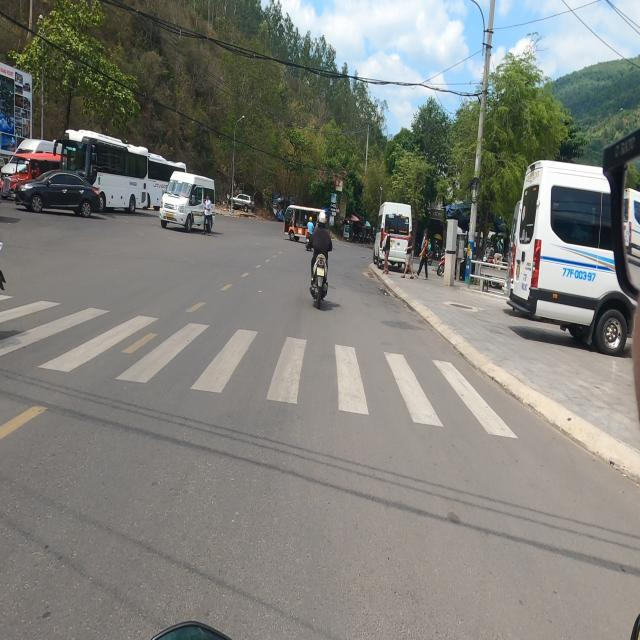walk-crossing: (20, 310, 513, 428)
